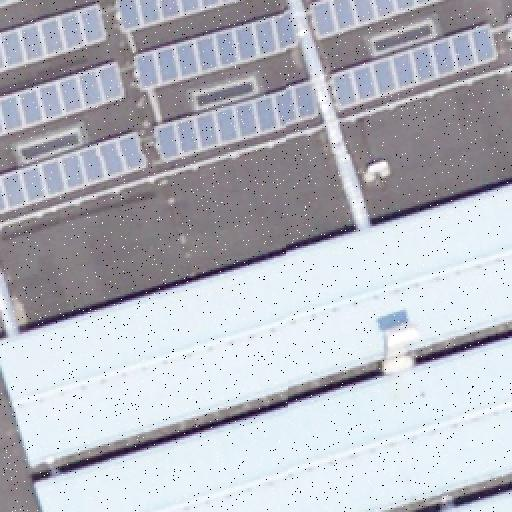solar-panel: (331, 22, 501, 110), (135, 11, 305, 93), (151, 80, 321, 160), (0, 133, 148, 211), (0, 61, 128, 139), (1, 2, 111, 74), (308, 0, 452, 44), (117, 0, 243, 36), (1, 0, 23, 8), (508, 14, 512, 30)
